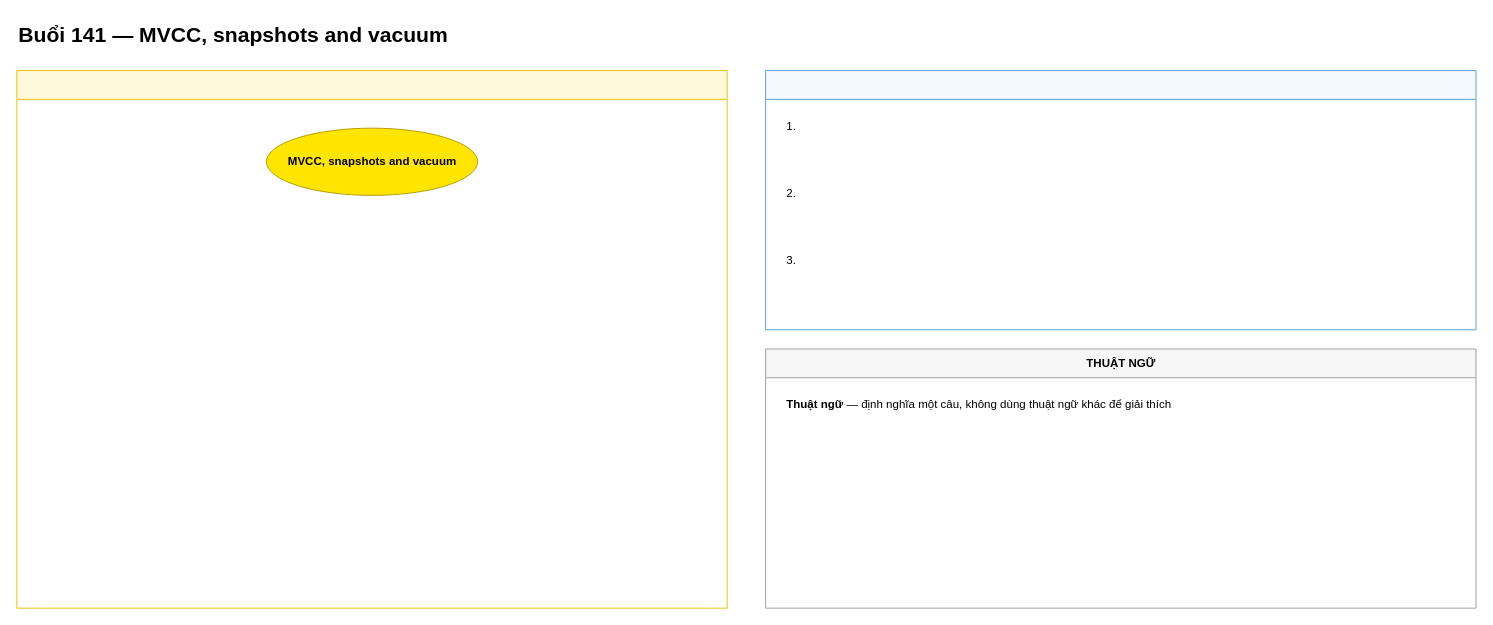
This 1493x625 diagram has some shape labels left out. The shapes that lost their labels are listed below. From the top down, each one's box as (x1, y1, x2, y2) in pixels, then its label:
(765, 70, 1476, 330): KEY TAKEAWAY — ba điều phải nhớ
(16, 70, 727, 608): MINDMAP
